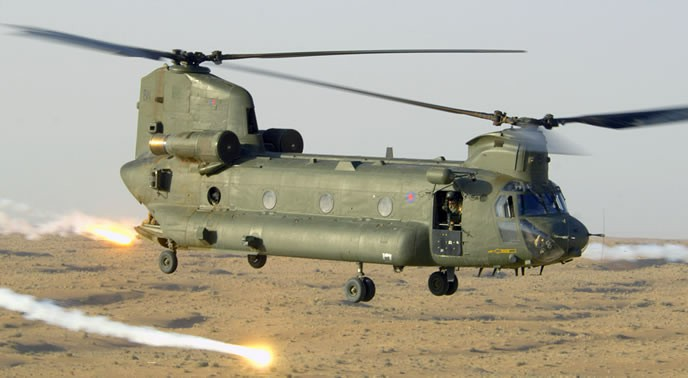chinook: (33, 24, 678, 305)
